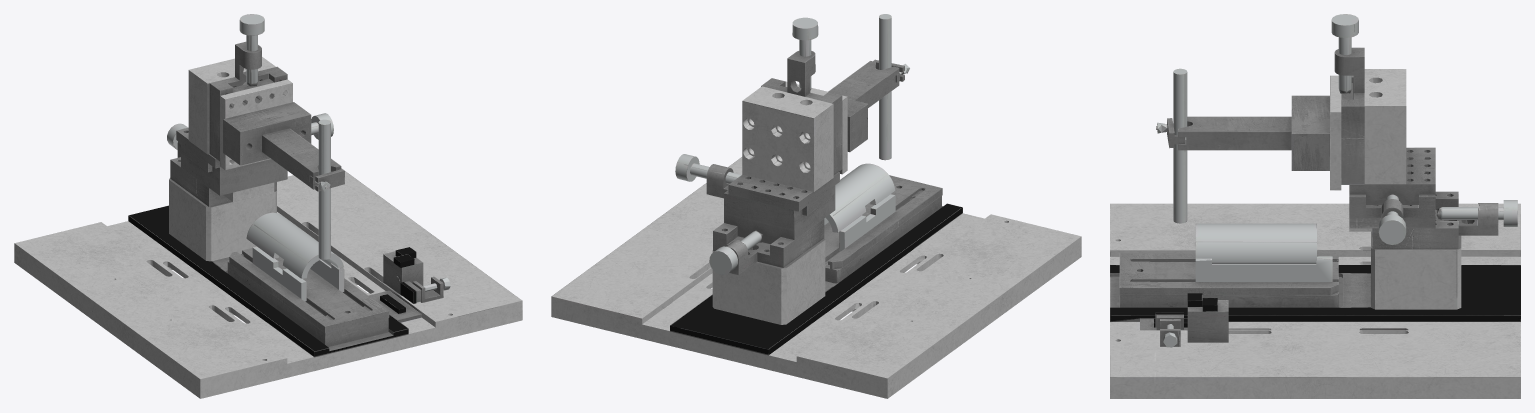
The model's file is Base_simplified_wo_sled_parts.dae.
3 views of the same model, side by side, from view 1: azimuth 30°, elevation 25°; view 2: azimuth 150°, elevation 25°; view 3: azimuth 270°, elevation 25° (orthographic). The views are drawn at different scales.
Parts seen in each view (by area): view 1: BaseSimplified; view 2: BaseSimplified; view 3: BaseSimplified.
Boxes of the visible parts, x1,y1,x2,y2 form: BaseSimplified: (14,14,522,398); BaseSimplified: (551,14,1081,398); BaseSimplified: (1110,14,1520,398).
Bounding box in the file's own units: 30 × 30 × 23.43.
Materials: 1 (1 with a texture image).
